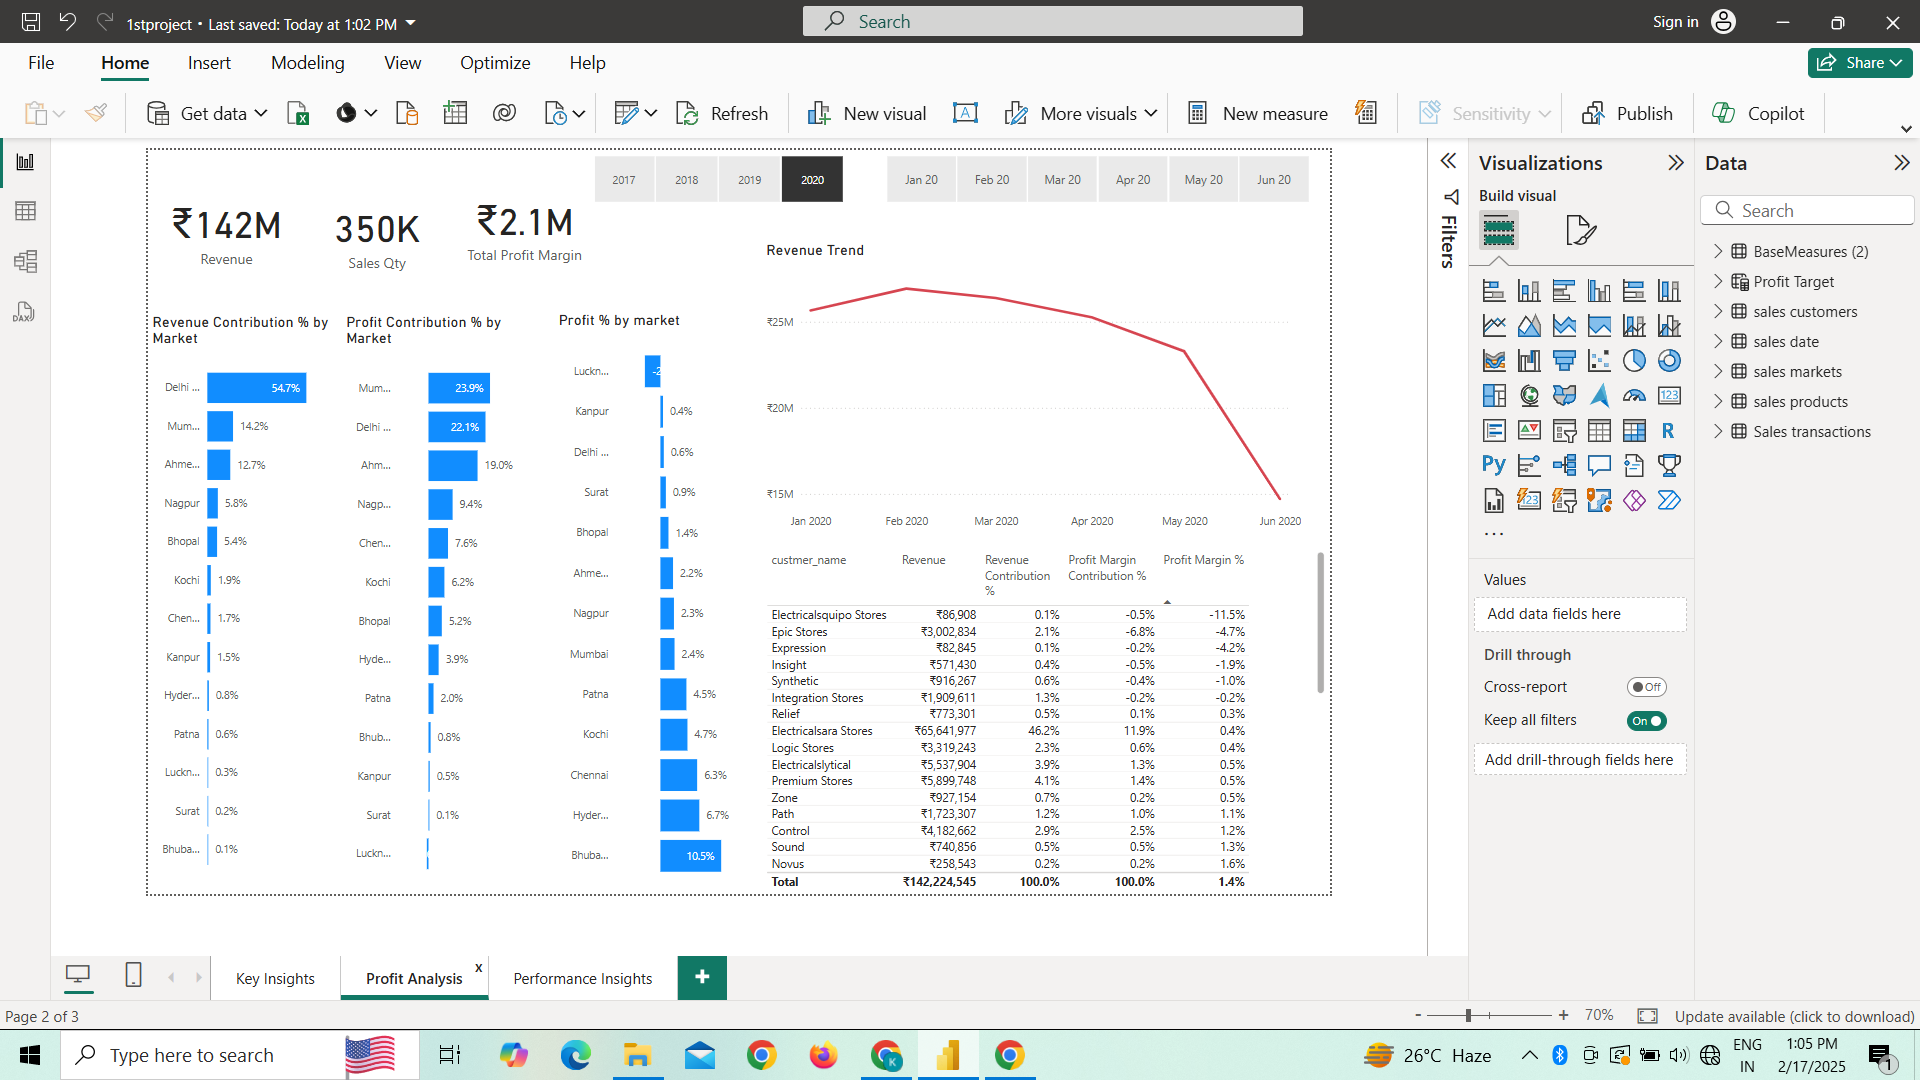

This screenshot's page, from the dashboard's own definition file:
{"tool":"powerbi","page":{"name":"Profit Analysis","canvas":[1350,850],"ordinal":1},"visuals":[{"type":"card","fields":{"Values":["BaseMeasures (2).Revenue"]},"box":[0,0,179.6,184.8],"z":0},{"type":"card","fields":{"Values":["BaseMeasures (2).Sales Qty"]},"box":[179.6,0,164.1,193],"z":1000},{"type":"barChart","title":"Profit % by market","fields":{"Y":["BaseMeasures (2).Profit Margin %"],"Category":["sales markets.markets_name"]},"box":[464.5,184.8,230.2,664.8],"z":2000},{"type":"barChart","title":"Profit Contribution % by Market","fields":{"Y":["BaseMeasures (2).Profit Margin Contribution %"],"Category":["sales markets.markets_name"]},"box":[221.9,185.8,208.5,659.6],"z":3000},{"type":"slicer","fields":{"Values":["sales date.year"]},"box":[483.2,0,335.5,66.5],"z":4000},{"type":"slicer","fields":{"Values":["sales date.cy_date"]},"box":[818.6,0,531.7,66.5],"z":5000},{"type":"tableEx","title":"Top 5 Customers","fields":{"Values":["sales customers.custmer_name","BaseMeasures (2).Revenue","BaseMeasures (2).Revenue Contribution %","BaseMeasures (2).Profit Margin Contribution %","BaseMeasures (2).Profit Margin %"]},"box":[701.9,454.2,648.3,395.4],"z":6000},{"type":"lineChart","title":"Revenue Trend","fields":{"Y":["BaseMeasures (2).Revenue"],"Category":["sales date.cy_date"]},"box":[701.9,104.3,621.4,338.6],"z":7000},{"type":"card","fields":{"Values":["BaseMeasures (2).Total Profit Margin"]},"box":[349.9,0,161,176.5],"z":8000},{"type":"barChart","title":"Revenue Contribution % by Market","fields":{"Y":["BaseMeasures (2).Revenue Contribution %"],"Category":["sales markets.markets_name"]},"box":[0,185.8,219.9,654.5],"z":9000}]}

Visuals, with their boxes on the page's 1350x850 design canvas (x1, y1, x2, y2). These are canvas units, not pixel positions in the 1920x1080 screenshot, which may show the page scaled, cropped or inside an application window:
card - BaseMeasures (2).Revenue: region(0, 0, 180, 185)
card - BaseMeasures (2).Sales Qty: region(180, 0, 344, 193)
"Profit % by market" barChart: region(464, 185, 695, 850)
"Profit Contribution % by Market" barChart: region(222, 186, 430, 845)
slicer - sales date.year: region(483, 0, 819, 66)
slicer - sales date.cy_date: region(819, 0, 1350, 66)
"Top 5 Customers" tableEx: region(702, 454, 1350, 850)
"Revenue Trend" lineChart: region(702, 104, 1323, 443)
card - BaseMeasures (2).Total Profit Margin: region(350, 0, 511, 176)
"Revenue Contribution % by Market" barChart: region(0, 186, 220, 840)
